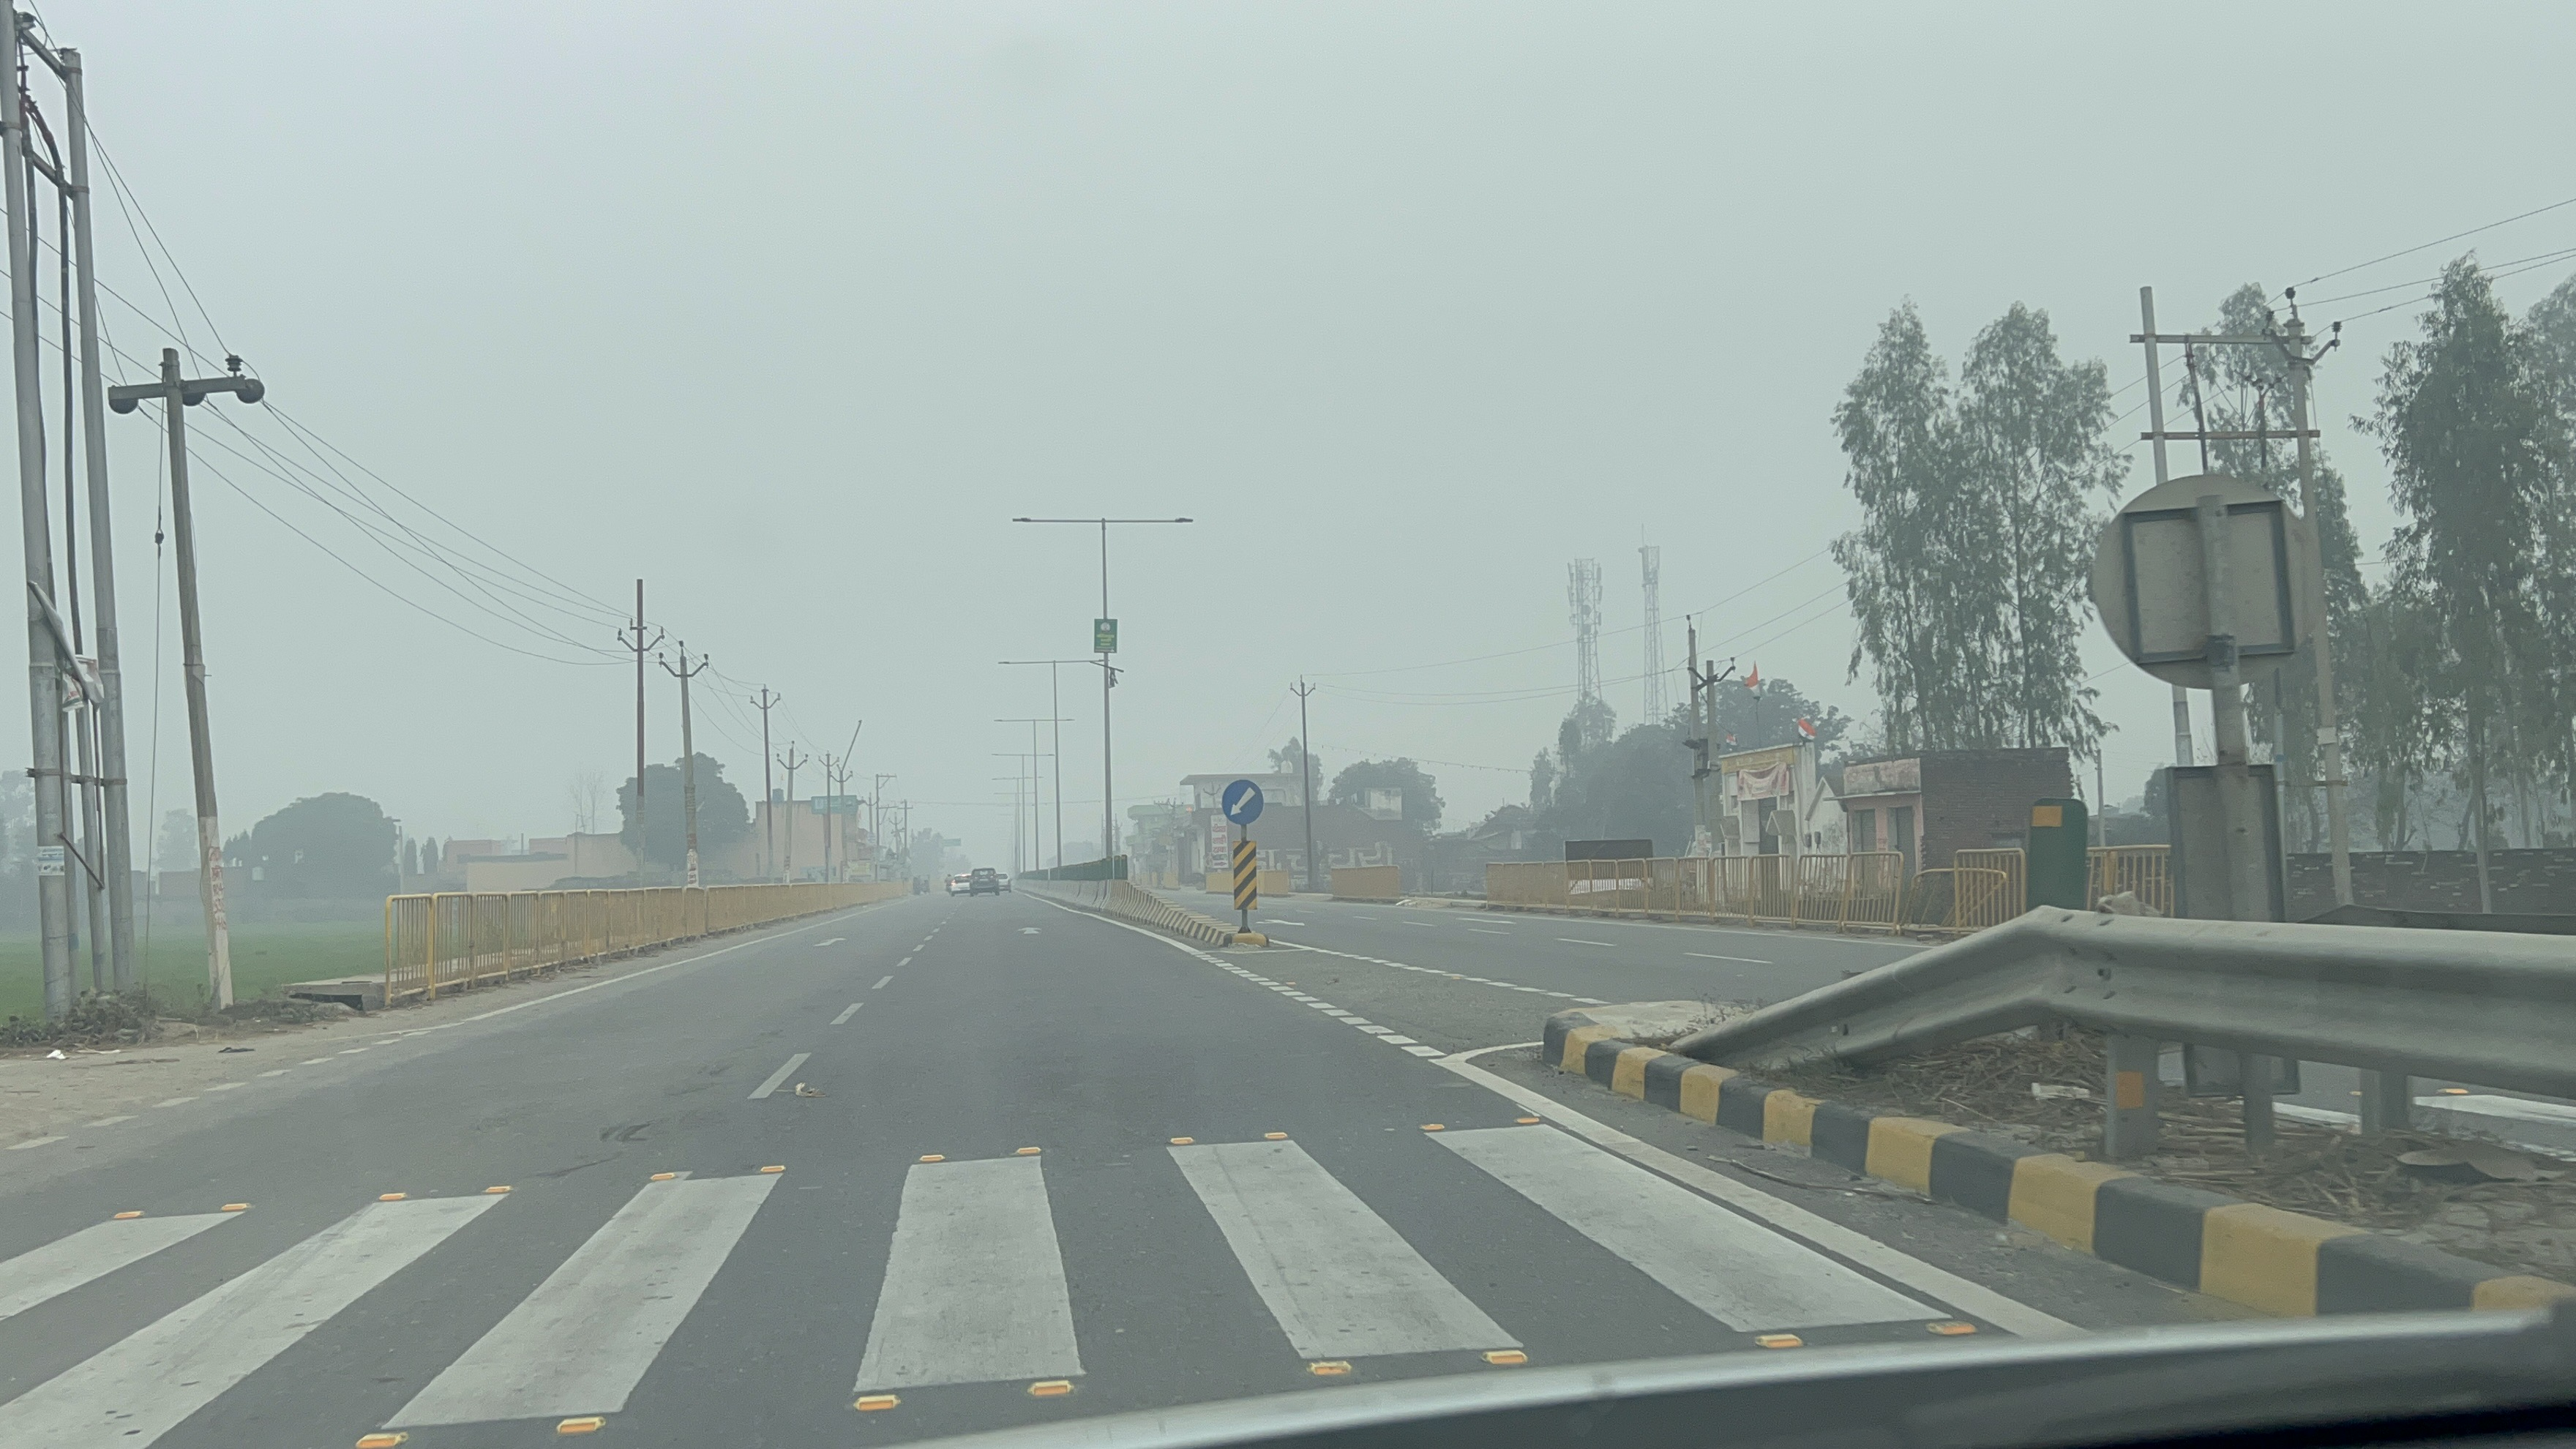General: (1232, 841, 1259, 913)
Regulatory: (1215, 773, 1267, 825)
